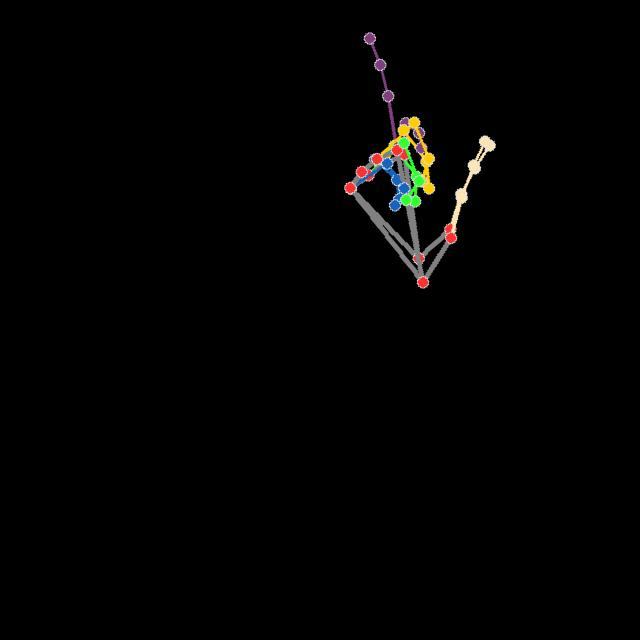gun: (338, 28, 496, 293)
